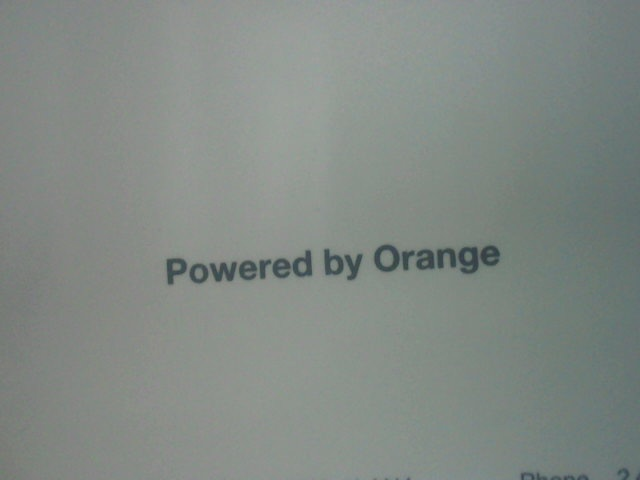AS_PowerByOrange: (137, 227, 506, 290)
